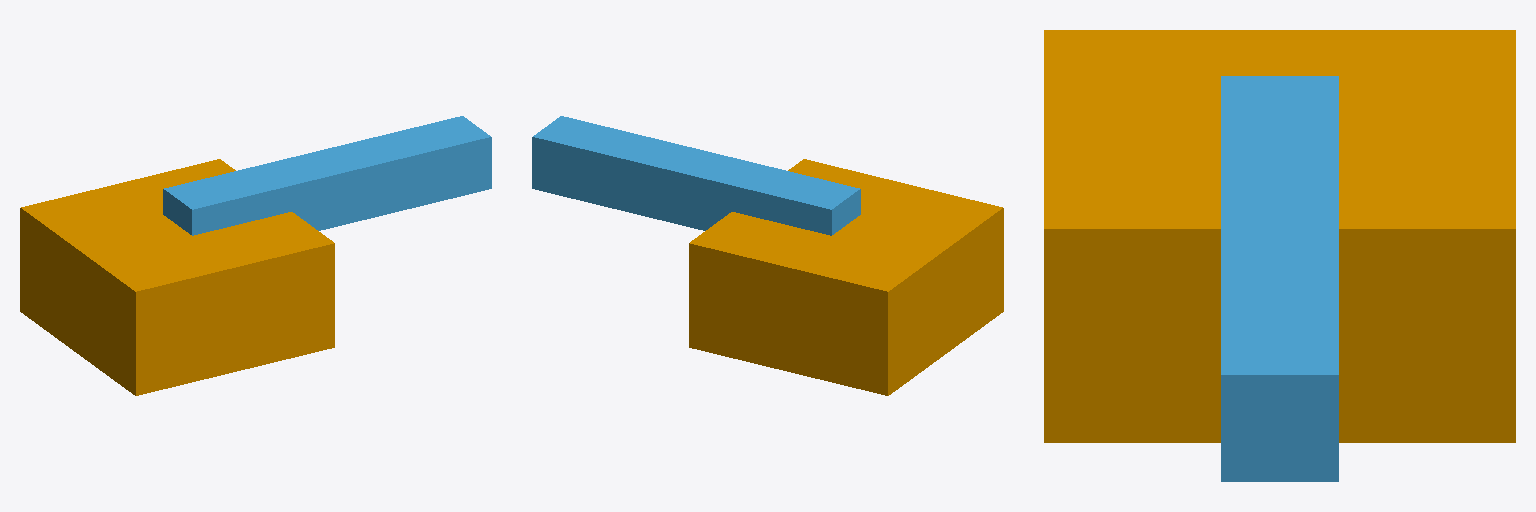
The robot description file, URDF, robot "two_link_revolute":
<?xml version="1.0"?>
<!--
  two_link_revolute: a synthetic articulated fixture for the #168
  joint-drive GPU test. NOT the forklift application model - a minimal,
  license-clean robot authored for this repo's test suite.

  Structure:
    base_link   a fixed-base box
    arm_link    a box, joined to base_link by a single REVOLUTE joint

  The revolute joint "joint1" is what the import-time joint_drive
  (UrdfConverterCfg.joint_drive=JointDriveCfg) and the runtime
  apply_joint_drive (modify_joint_drive_properties) write a DriveAPI to.
  Both links carry inertials so the importer keeps the revolute joint
  (merge_fixed_joints only collapses fixed joints; a revolute joint always
  survives). Geometry is primitive boxes - no external mesh asset.

  GPU test (#168) asserts: with a joint_drive, the revolute joint prim
  gains a UsdPhysics.DriveAPI("angular") carrying the configured
  stiffness/damping. "The joint physically reaches a commanded target"
  needs stepped physics (SimulationContext, deferred #151) and is NOT
  asserted here - only that the drive is structurally CONFIGURED.
-->
<robot name="two_link_revolute">

  <link name="base_link">
    <inertial>
      <origin xyz="0 0 0.05" rpy="0 0 0"/>
      <mass value="2.0"/>
      <inertia ixx="0.01" ixy="0" ixz="0" iyy="0.01" iyz="0" izz="0.01"/>
    </inertial>
    <visual>
      <origin xyz="0 0 0.05" rpy="0 0 0"/>
      <geometry>
        <box size="0.2 0.2 0.1"/>
      </geometry>
    </visual>
    <collision>
      <origin xyz="0 0 0.05" rpy="0 0 0"/>
      <geometry>
        <box size="0.2 0.2 0.1"/>
      </geometry>
    </collision>
  </link>

  <link name="arm_link">
    <inertial>
      <origin xyz="0.15 0 0" rpy="0 0 0"/>
      <mass value="1.0"/>
      <inertia ixx="0.005" ixy="0" ixz="0" iyy="0.005" iyz="0" izz="0.005"/>
    </inertial>
    <visual>
      <origin xyz="0.15 0 0" rpy="0 0 0"/>
      <geometry>
        <box size="0.3 0.05 0.05"/>
      </geometry>
    </visual>
    <collision>
      <origin xyz="0.15 0 0" rpy="0 0 0"/>
      <geometry>
        <box size="0.3 0.05 0.05"/>
      </geometry>
    </collision>
  </link>

  <joint name="joint1" type="revolute">
    <origin xyz="0 0 0.1" rpy="0 0 0"/>
    <parent link="base_link"/>
    <child link="arm_link"/>
    <axis xyz="0 0 1"/>
    <limit lower="-1.57" upper="1.57" effort="10.0" velocity="2.0"/>
    <dynamics damping="0.1" friction="0.0"/>
  </joint>

</robot>

--- What the picture shows (computed from the rendered views, not written in the file) ---
3 views of the same robot in one strip: view 1: azimuth 30°, elevation 25°; view 2: azimuth 150°, elevation 25°; view 3: azimuth 270°, elevation 25° (orthographic).
Robot: two_link_revolute — 2 links, 1 joints (1 revolute); root link base_link; default pose: every joint at zero.
Links seen in each view (by area): view 1: base_link, arm_link; view 2: base_link, arm_link; view 3: base_link, arm_link.
Link boxes in pixels (x1,y1,x2,y2): base_link: (20, 159, 334, 395); arm_link: (163, 116, 491, 235); base_link: (689, 159, 1003, 395); arm_link: (532, 116, 860, 235); base_link: (1044, 30, 1515, 442); arm_link: (1221, 76, 1338, 481).
Bounding box of the posed robot: 0.4 × 0.2 × 0.125 m (x, y, z).
Geometry: primitives only (box / cylinder / sphere), no mesh files.
